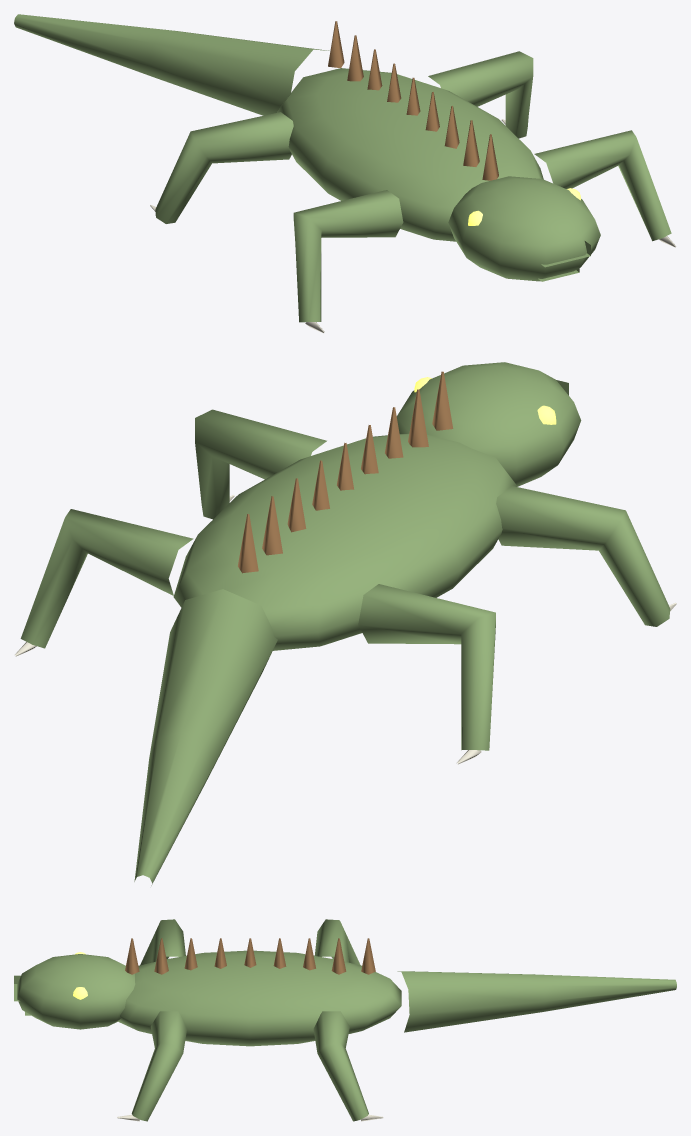
Rendered from lizard.glb.
The picture shows the model from 3 angles, top to bottom: view 1: azimuth 30°, elevation 25°; view 2: azimuth 150°, elevation 25°; view 3: azimuth 270°, elevation 25°; orthographic projection. The views are drawn at different scales.
Size of the model in its own units: 0.8889 by 0.352 by 1.8.
